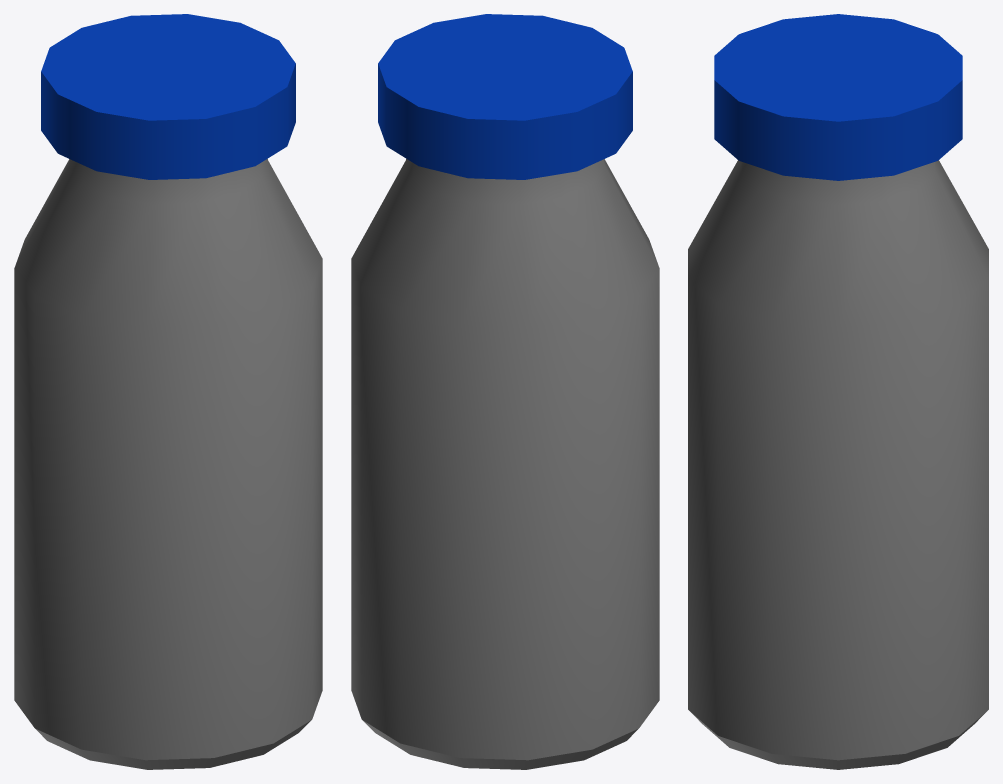
Rendered from Food_milk.FBX.
3 views of the same model, side by side, from view 1: azimuth 30°, elevation 25°; view 2: azimuth 150°, elevation 25°; view 3: azimuth 270°, elevation 25° (orthographic).
Parts seen in each view (by area): view 1: Cylinder001, Cylinder002; view 2: Cylinder001, Cylinder002; view 3: Cylinder001, Cylinder002.
Part boxes in pixels (bbox=[...]): Cylinder001: bbox=[14, 159, 322, 769]; Cylinder002: bbox=[41, 14, 295, 179]; Cylinder001: bbox=[351, 159, 659, 769]; Cylinder002: bbox=[378, 14, 632, 179]; Cylinder001: bbox=[688, 160, 988, 769]; Cylinder002: bbox=[714, 14, 962, 180].
Size of the model in its own units: 38.82 by 89.31 by 37.85.
